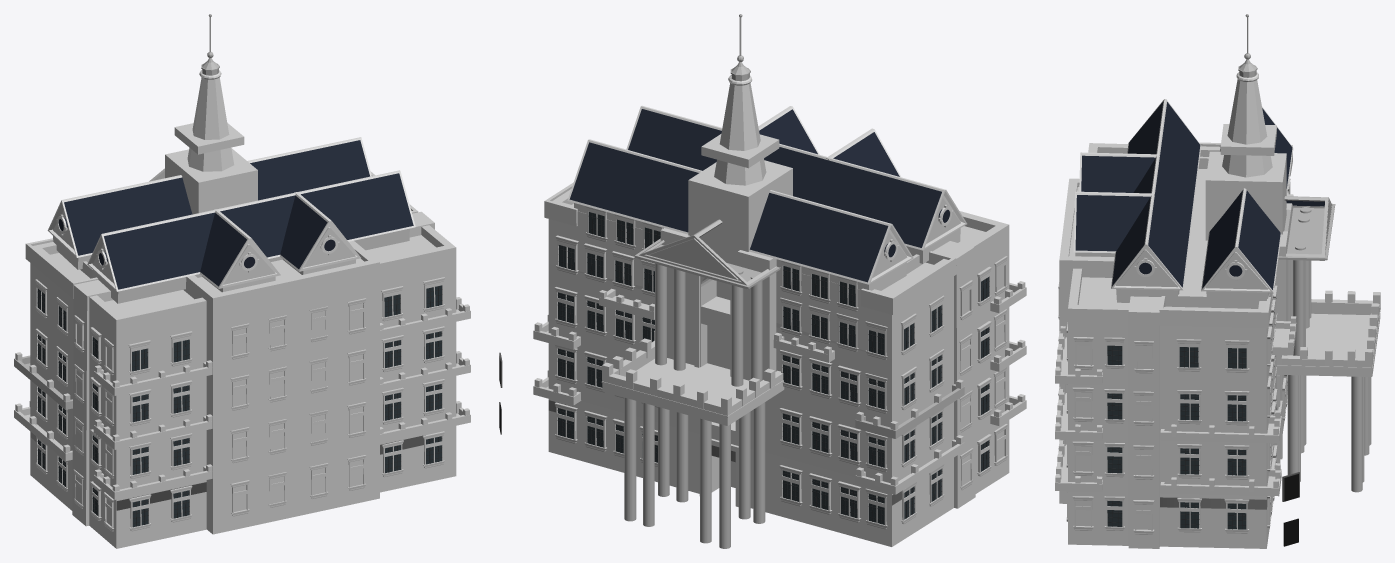
File: Gothic_Building.glb
3 renders of one model, left to right at view 1: azimuth 30°, elevation 25°; view 2: azimuth 150°, elevation 25°; view 3: azimuth 270°, elevation 25°, orthographic. The views are drawn at different scales.
Parts seen in each view (by area): view 1: Cube.177, Cube.158, Cube.167, Cube.727, Cube.1097, Cube.730, Cube.726, Cube.181, Cube.729, Cube.163, Cube.1094, Cube.1065 (+12 smaller); view 2: Cube.158, Cube.727, Cube.167, Cube.731, Cube.730, Cube.1097, Cube.732, Cube.729, Cube.1094, Cube.181, Cylinder.023, Cylinder.021 (+20 smaller); view 3: Cube.158, Cube.167, Cube.1096, Cube.727, Cube.731, Cube.730, Cube.726, Cube.729, Cube.732, Cube.1095, Cube.177, Cube.181 (+20 smaller).
Part boxes in pixels (box(x1,y1,x2,y2)): Cube.177: box(183, 240, 379, 534); Cube.158: box(30, 225, 456, 548); Cube.167: box(87, 170, 415, 291); Cube.727: box(47, 137, 371, 257); Cube.1097: box(72, 280, 112, 526); Cube.730: box(165, 148, 257, 214); Cube.726: box(280, 192, 360, 271); Cube.181: box(200, 209, 280, 288); Cube.729: box(187, 77, 234, 171); Cube.163: box(92, 228, 409, 303); Cube.1094: box(25, 238, 98, 298); Cube.1065: box(93, 416, 212, 449); Cube.158: box(548, 189, 1009, 546); Cube.727: box(567, 139, 913, 284); Cube.167: box(626, 105, 967, 250); Cube.731: box(601, 340, 784, 425); Cube.730: box(688, 160, 792, 251); Cube.1097: box(933, 241, 975, 508); Cube.732: box(634, 219, 780, 289); Cube.729: box(714, 83, 766, 185); Cube.1094: box(861, 251, 956, 314); Cube.181: box(826, 128, 900, 176); Cylinder.023: box(624, 397, 636, 521); Cylinder.021: box(753, 402, 765, 523); Cube.158: box(1068, 143, 1293, 548); Cube.167: box(1111, 99, 1201, 290); Cube.1096: box(1128, 296, 1161, 548); Cube.727: box(1201, 106, 1293, 292); Cube.731: box(1276, 299, 1380, 376); Cube.730: box(1205, 151, 1286, 240); Cube.726: box(1073, 191, 1154, 253); Cube.729: box(1222, 79, 1272, 177); Cube.732: box(1278, 196, 1335, 260); Cube.1095: box(1159, 294, 1270, 328); Cube.177: box(1059, 178, 1114, 503); Cube.181: box(1079, 152, 1159, 192).
Size of the model in its own units: 0.4942 by 0.5376 by 0.3517.
